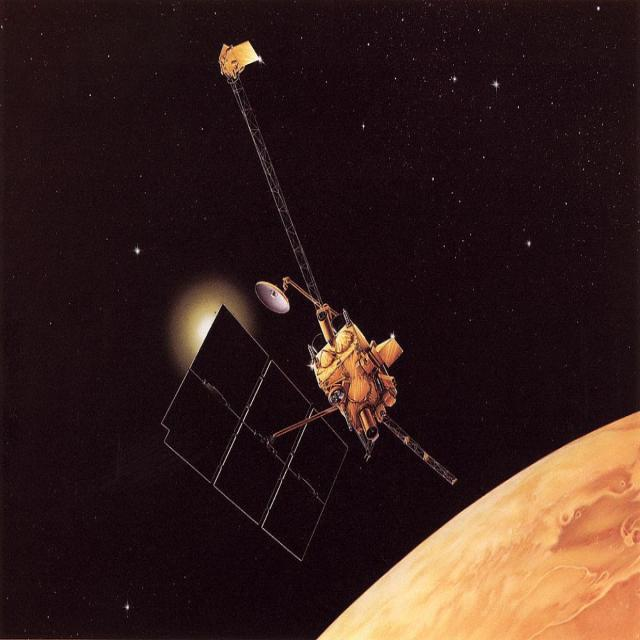medium_debris: (148, 32, 465, 589)
